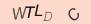C: (68, 7, 80, 22)
D: (42, 11, 53, 22)
L: (34, 3, 43, 17)
T: (25, 6, 36, 19)
W: (12, 6, 27, 20)
